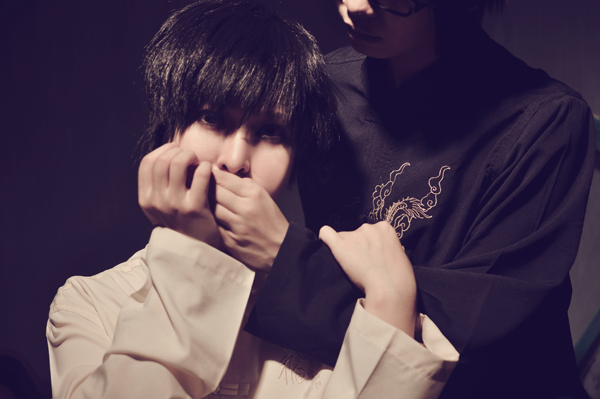face: (171, 84, 291, 227)
